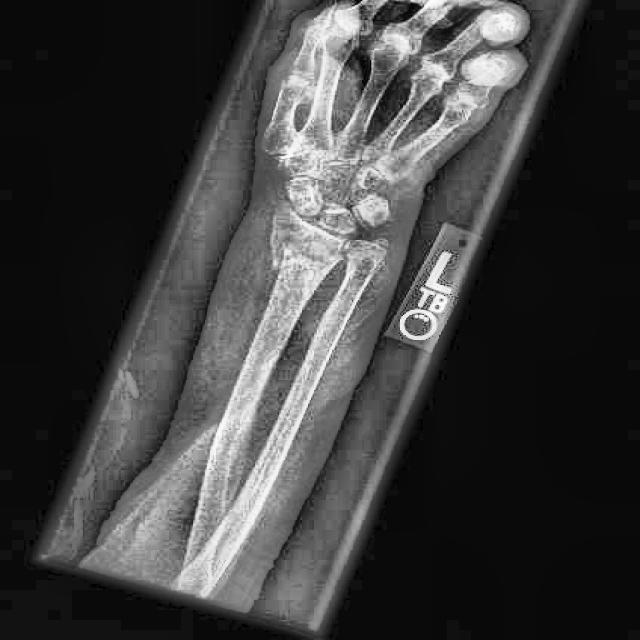fingers positive: (242, 225, 376, 294)
